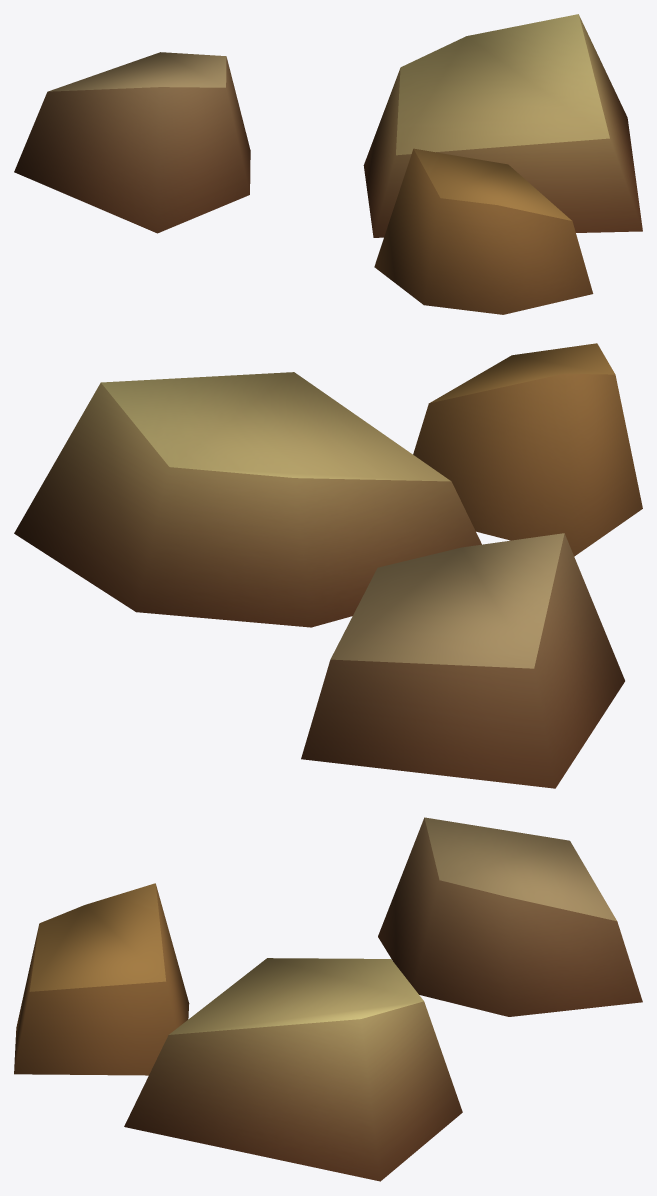
File: SM_Rocks_02.fbx
The picture shows the model from 3 angles, top to bottom: view 1: azimuth 30°, elevation 25°; view 2: azimuth 150°, elevation 25°; view 3: azimuth 270°, elevation 25°; orthographic projection. The views are drawn at different scales.
Parts seen in each view (by area): view 1: SM_Rocks_02; view 2: SM_Rocks_02; view 3: SM_Rocks_02.
Boxes of the visible parts, x1,y1,x2,y2 form: SM_Rocks_02: (14,14,642,314); SM_Rocks_02: (14,343,642,788); SM_Rocks_02: (14,817,642,1181).
Bounding box in the file's own units: 0.6035 × 0.1389 × 0.5984.
